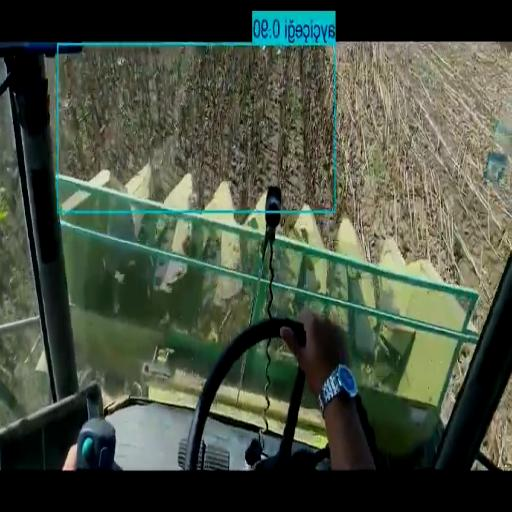ayc: (61, 47, 335, 208)
